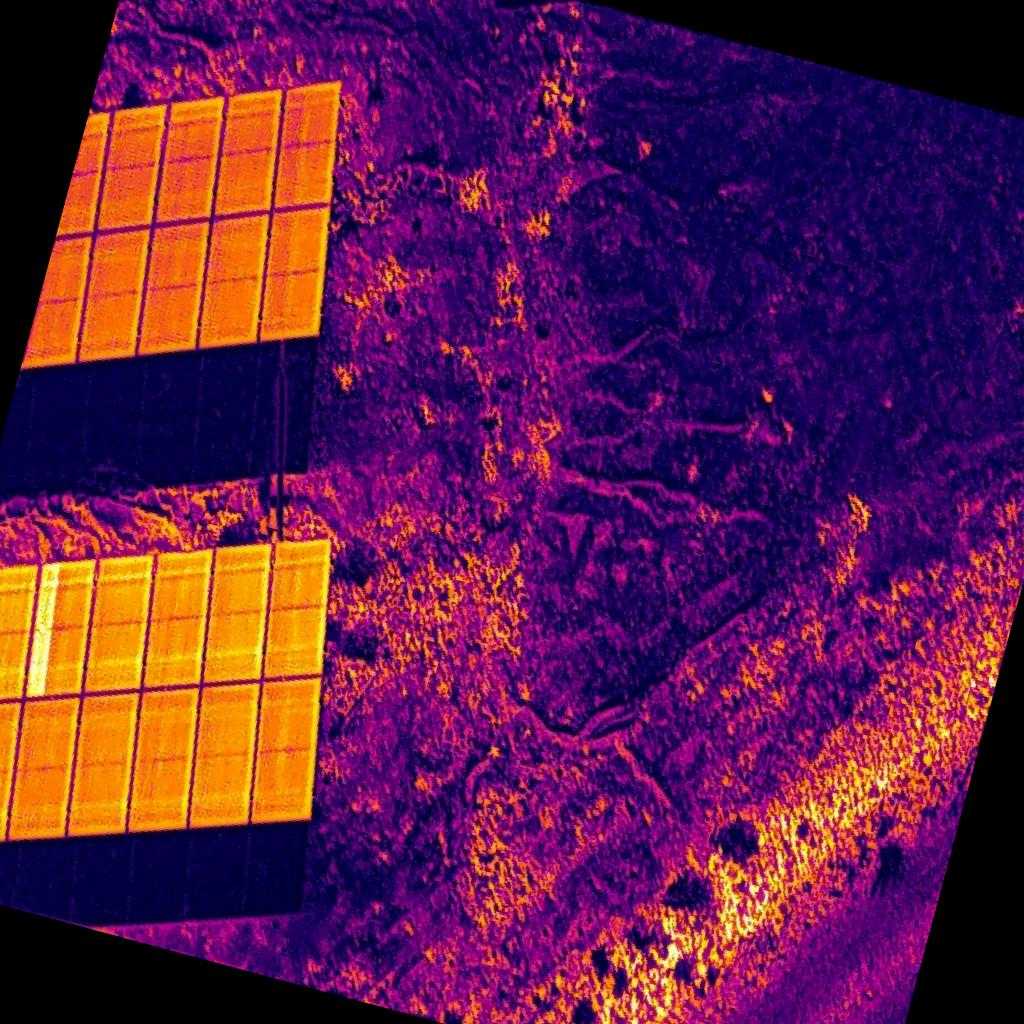panel: (25, 558, 95, 697), (213, 91, 283, 219), (95, 105, 164, 231)
